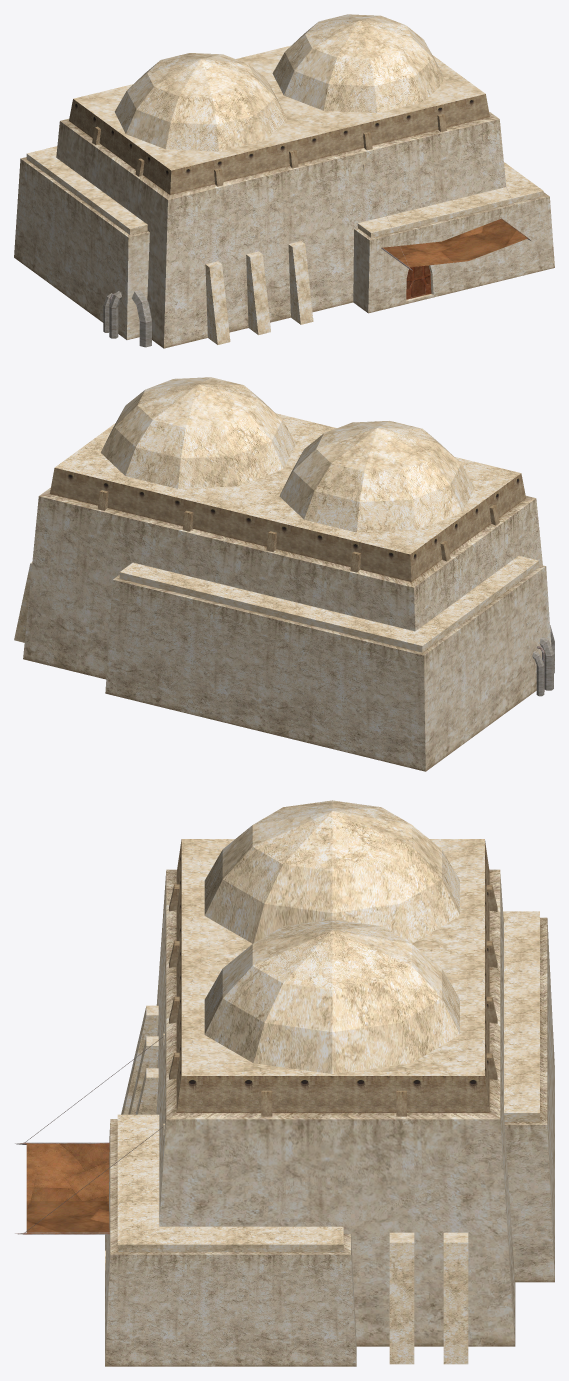
The model's file is thm_tato_imprv_building_s03_l1.fbx.
3 views of the same model, one above another, from view 1: azimuth 30°, elevation 25°; view 2: azimuth 150°, elevation 25°; view 3: azimuth 270°, elevation 25° (orthographic). The views are drawn at different scales.
Parts seen in each view (by area): view 1: mesh_node; view 2: mesh_node; view 3: mesh_node.
Part boxes in pixels (bbox=[...]): mesh_node: bbox=[14, 14, 554, 348]; mesh_node: bbox=[14, 377, 554, 771]; mesh_node: bbox=[15, 800, 554, 1366].
Bounding box in the file's own units: 32.28 × 17.22 × 24.3.
4 materials, 4 textured.
